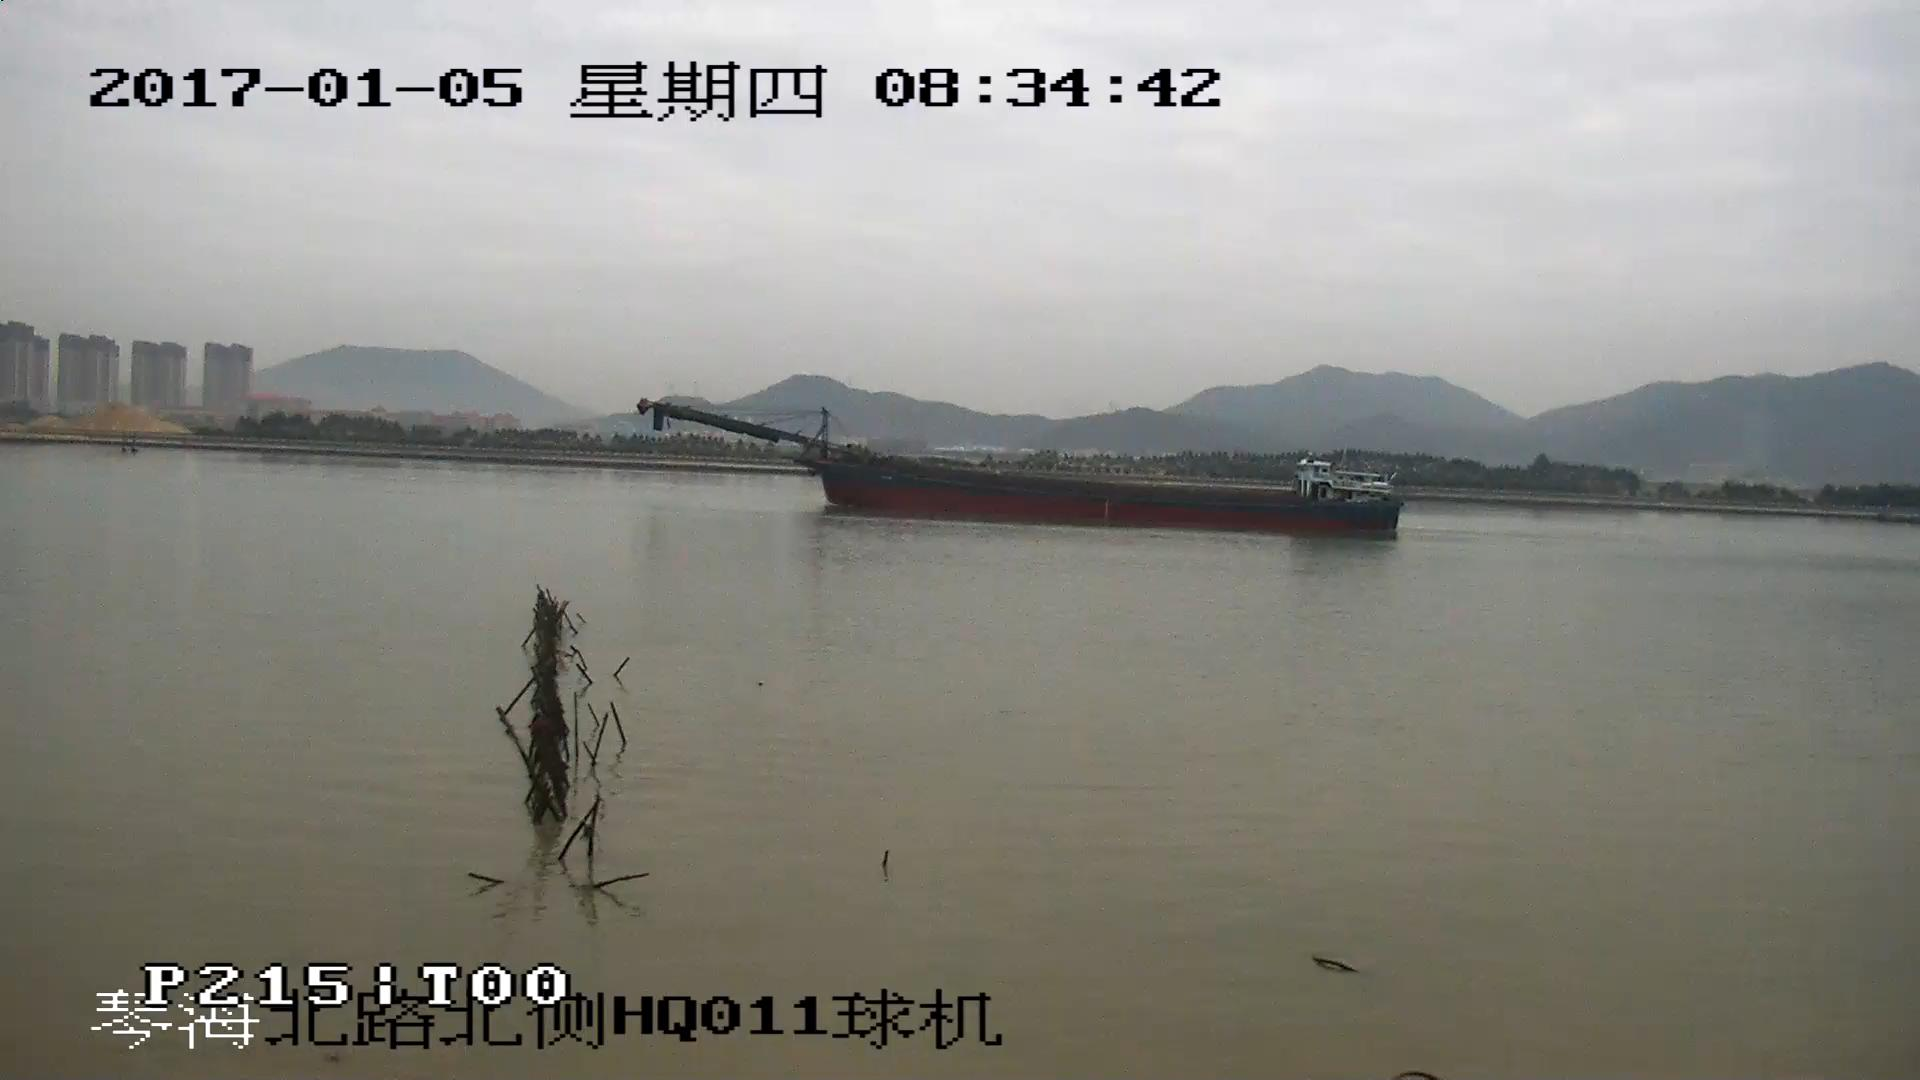bulk cargo carrier: (644, 405, 1404, 533)
